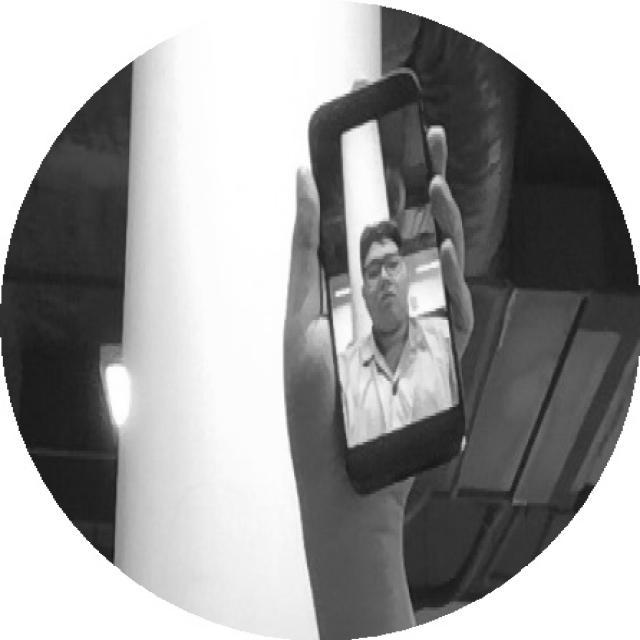fake: (279, 64, 493, 505), (306, 60, 480, 502)
